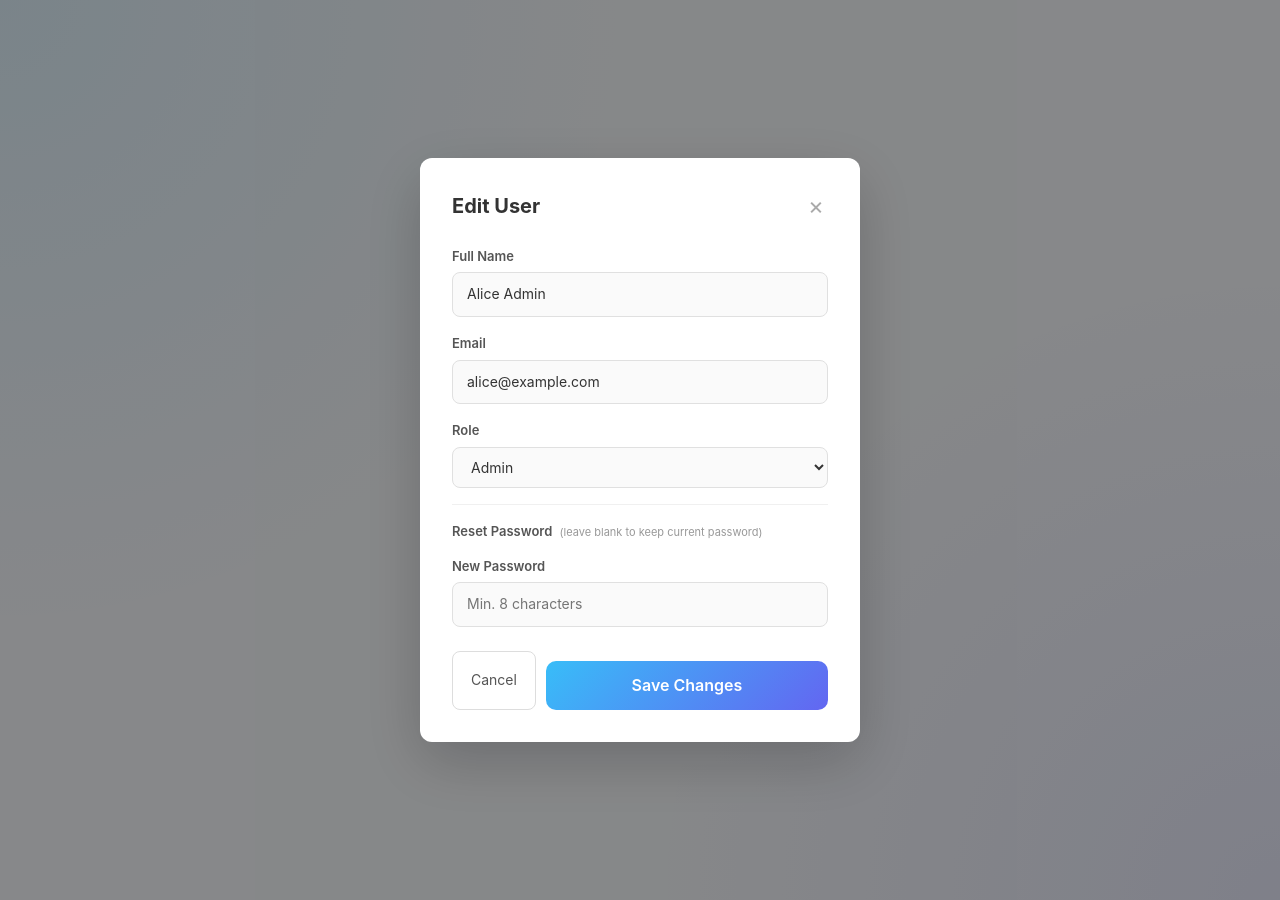
Test: EditUserModal › successful submission › disables both buttons while submitting
The width and height of the screenshot is (1280, 900).
Click the button "Save Changes".
click(687, 686)  # box [546,661,828,710]
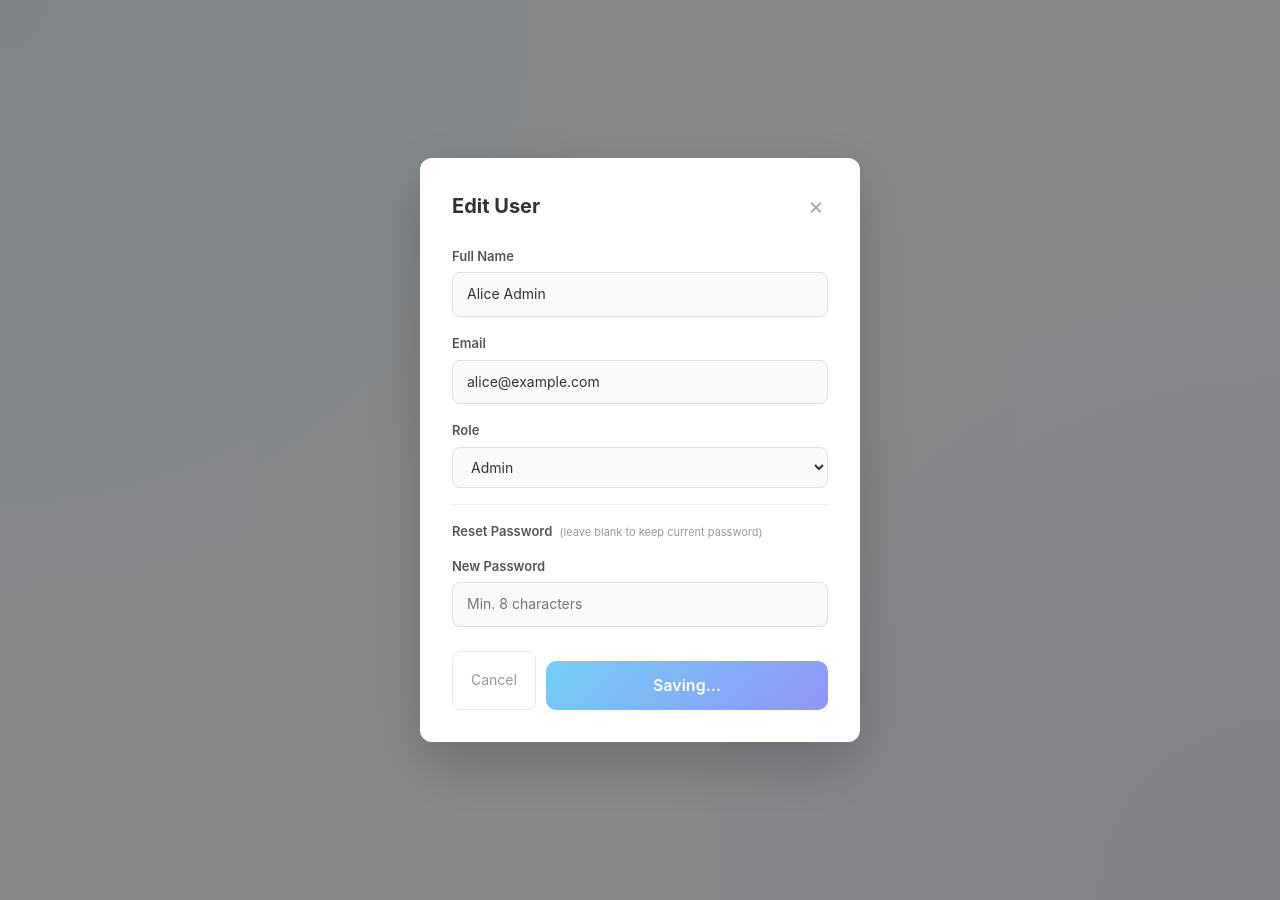
Expected: the button "Saving…" is disabled, [546,661,828,710]
Expected: the button "Cancel" is disabled, [452,651,536,710]
